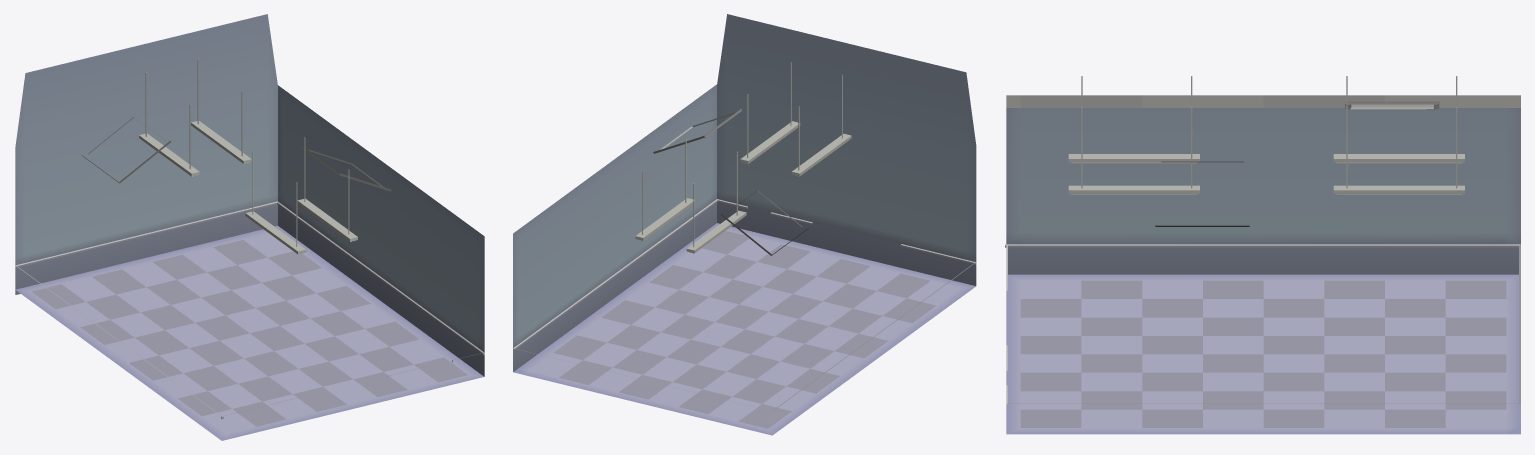
Rendered from Garage_03.glb.
The picture shows the model from 3 angles, left to right: view 1: azimuth 30°, elevation 25°; view 2: azimuth 150°, elevation 25°; view 3: azimuth 270°, elevation 25°; orthographic projection. The views are drawn at different scales.
Parts seen in each view (by area): view 1: Garage_03; view 2: Garage_03; view 3: Garage_03.
Boxes of the visible parts, x1=… form: Garage_03: x1=15, y1=14, x2=484, y2=440; Garage_03: x1=513, y1=14, x2=976, y2=435; Garage_03: x1=1005, y1=76, x2=1520, y2=434.
Bounding box in the file's own units: 12.38 × 9.86 × 16.86.
